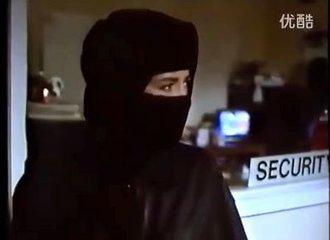OK: (138, 68, 194, 132)
